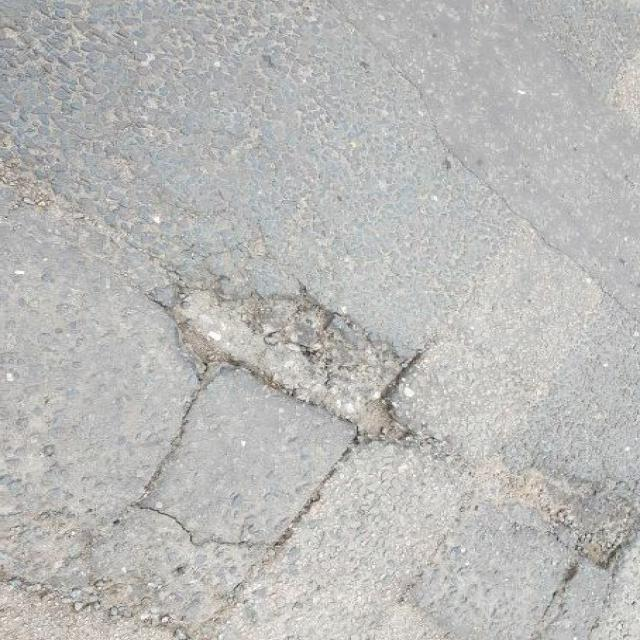Pothole: (147, 262, 437, 449), (472, 449, 640, 571)
